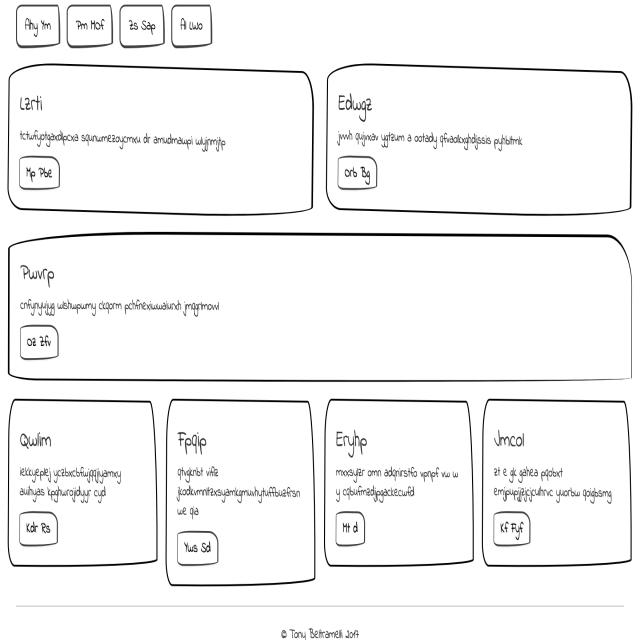Button: (172, 528, 222, 571), (16, 156, 63, 201), (332, 151, 378, 193), (15, 506, 60, 548), (491, 506, 536, 547), (16, 320, 60, 360), (331, 508, 369, 551)
Card: (5, 228, 636, 384), (5, 56, 320, 218), (324, 59, 635, 218), (162, 385, 317, 596), (5, 392, 160, 579), (480, 391, 635, 572), (322, 392, 476, 573)
Footer: (0, 585, 639, 640)
Heading 6: (335, 416, 377, 462), (13, 423, 60, 463), (490, 422, 534, 459), (336, 84, 376, 123), (172, 420, 214, 457), (18, 256, 59, 290), (14, 91, 48, 118)
Navigation Bar: (9, 0, 220, 58)
Paragraph: (172, 457, 304, 524), (15, 123, 232, 158), (332, 123, 528, 156), (19, 290, 232, 318), (329, 461, 459, 504), (487, 464, 618, 506), (15, 466, 125, 508)
